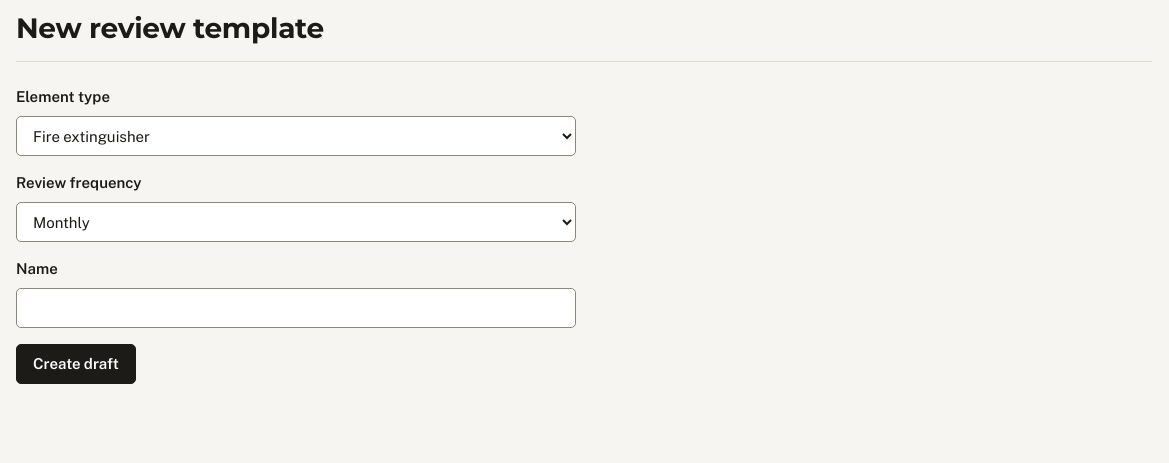
Test: ReviewTemplateCreatePage › shows a specific message, not a generic one, on a 409 REVIEW_TEMPLATE_DRAFT_EXISTS rejection (spec: Existing draft conflict is explained, not generic)
In the field with test id "review-template-create-name": (296, 308) [16, 288, 576, 328], type "Quarterly extinguisher check"
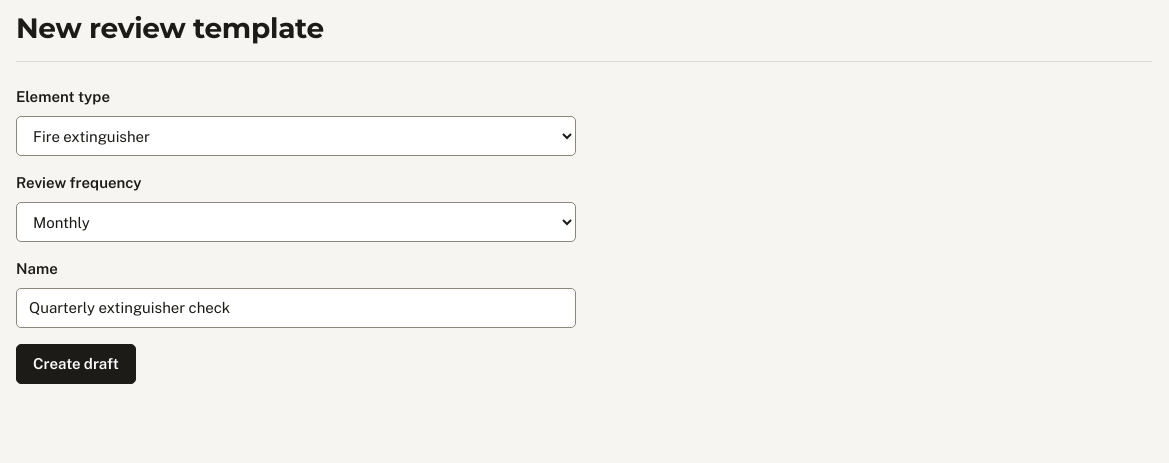
Click the button with test id "review-template-create-submit": click(76, 364) [16, 344, 136, 384]
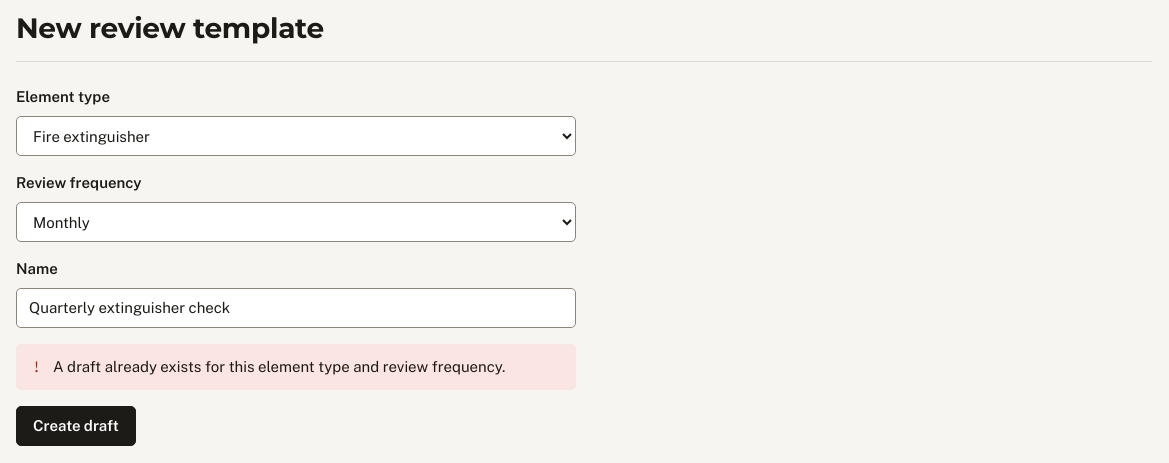
Now the message with test id "review-template-create-error" shows "A draft already exists for this element type and review frequency.", box [53, 358, 506, 375]
